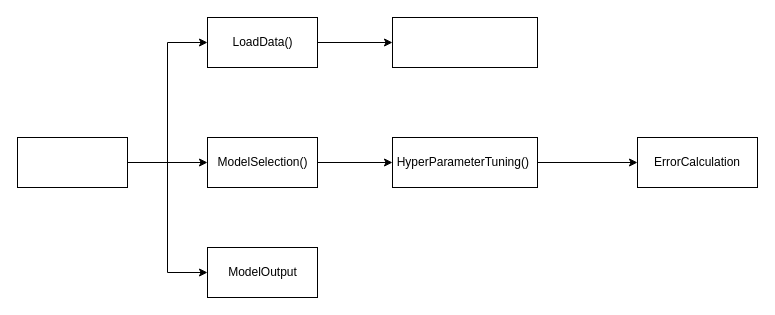
This 775x315 diagram has some shape labels left out. Each missing label, with the centre of its shape:
"DataProcessing()" belongs at [465,42].
"Main()" belongs at [72,162].
